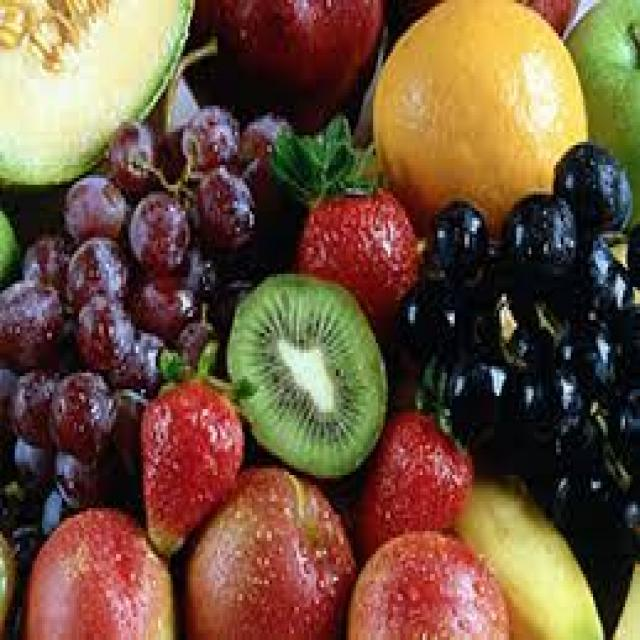organic waste: (373, 3, 588, 235), (0, 0, 195, 188), (222, 267, 386, 478), (180, 455, 354, 637), (269, 125, 415, 320), (455, 462, 603, 637), (207, 0, 378, 135), (20, 495, 173, 637), (138, 343, 242, 551), (341, 521, 507, 637), (564, 0, 638, 228), (354, 406, 464, 554), (507, 363, 583, 465), (497, 184, 573, 284), (44, 366, 114, 462), (551, 148, 628, 234), (131, 247, 210, 330), (439, 350, 502, 445), (0, 271, 62, 366), (126, 182, 188, 270), (50, 442, 121, 518), (193, 165, 252, 254), (551, 465, 613, 548), (430, 198, 482, 290), (5, 360, 57, 452), (556, 234, 613, 317), (59, 234, 121, 310), (462, 287, 526, 360), (180, 99, 240, 172), (240, 106, 294, 184), (556, 317, 613, 389), (62, 175, 126, 237), (402, 284, 454, 356), (106, 115, 158, 185), (77, 290, 131, 356), (610, 379, 638, 485), (20, 228, 62, 290), (10, 432, 54, 488), (112, 389, 144, 465), (212, 264, 255, 320), (168, 313, 215, 363), (0, 531, 15, 634), (618, 300, 638, 373)
